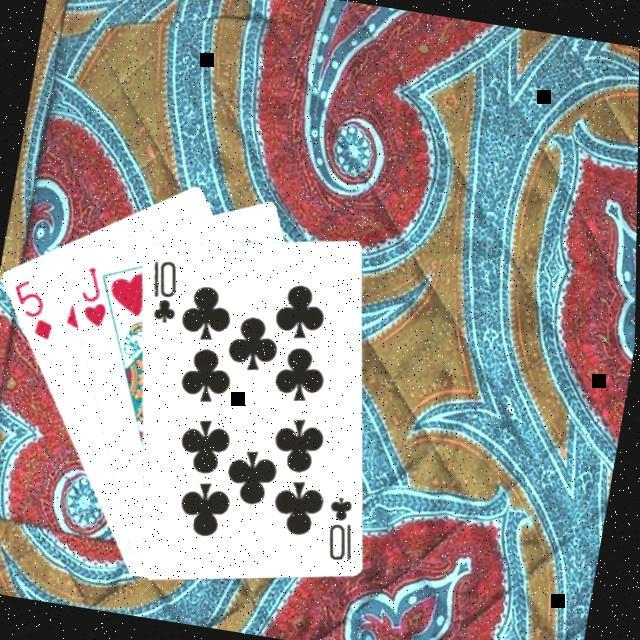10C: (139, 254, 187, 329), (317, 492, 365, 567)
5D: (1, 274, 62, 345)
JH: (71, 262, 117, 333)
